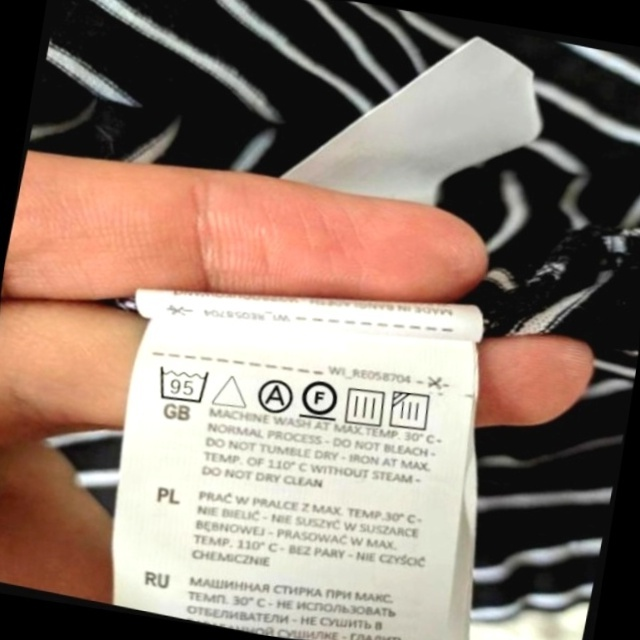95C: (151, 358, 216, 410)
bleach: (208, 365, 253, 415)
drip_dry: (338, 380, 392, 432)
drip_dry_in_shade: (385, 384, 440, 439)
dry_clean: (251, 373, 298, 418)
dry_clean_petrol_only: (295, 371, 345, 426)
